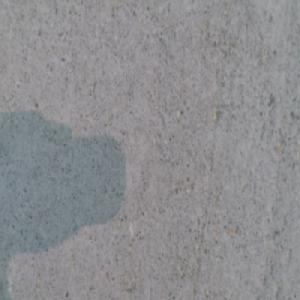Washer: (128, 286, 151, 300)
